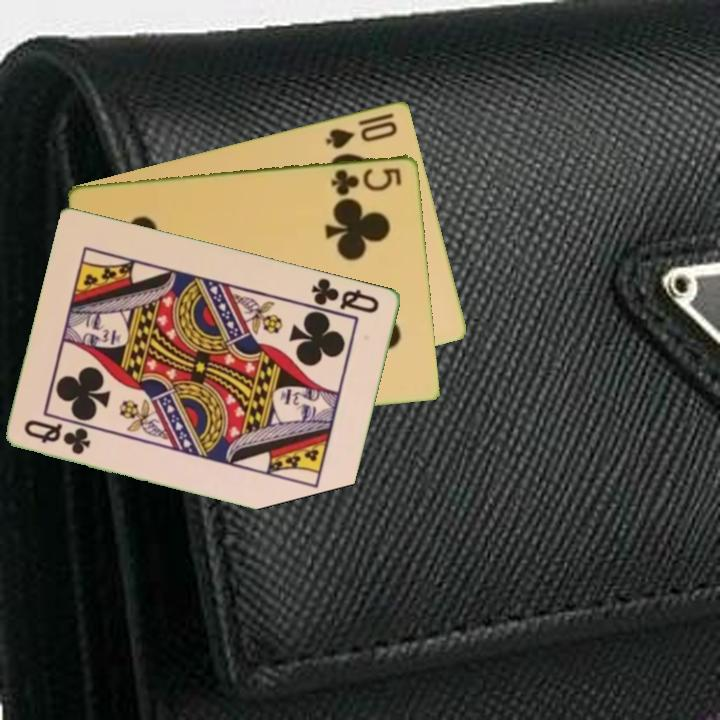10s: (322, 117, 401, 151)
5c: (328, 164, 405, 198)
Qc: (308, 274, 383, 316), (21, 415, 94, 457)
